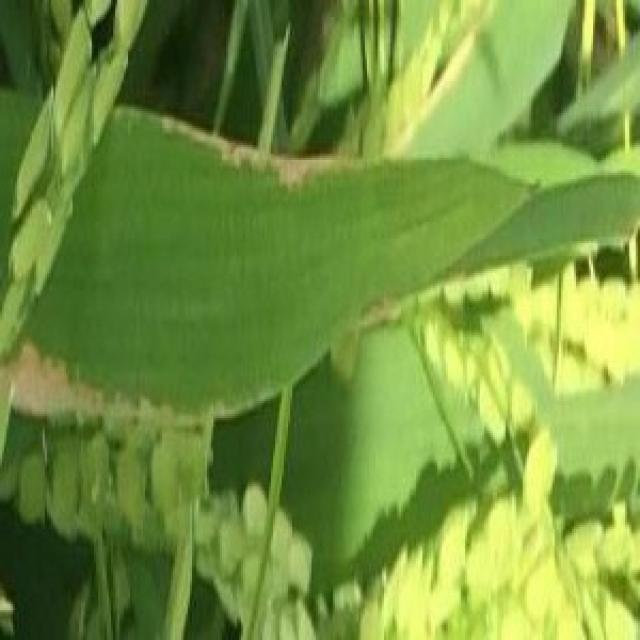Bacterial_Blight: (120, 91, 431, 210), (0, 335, 256, 460)
